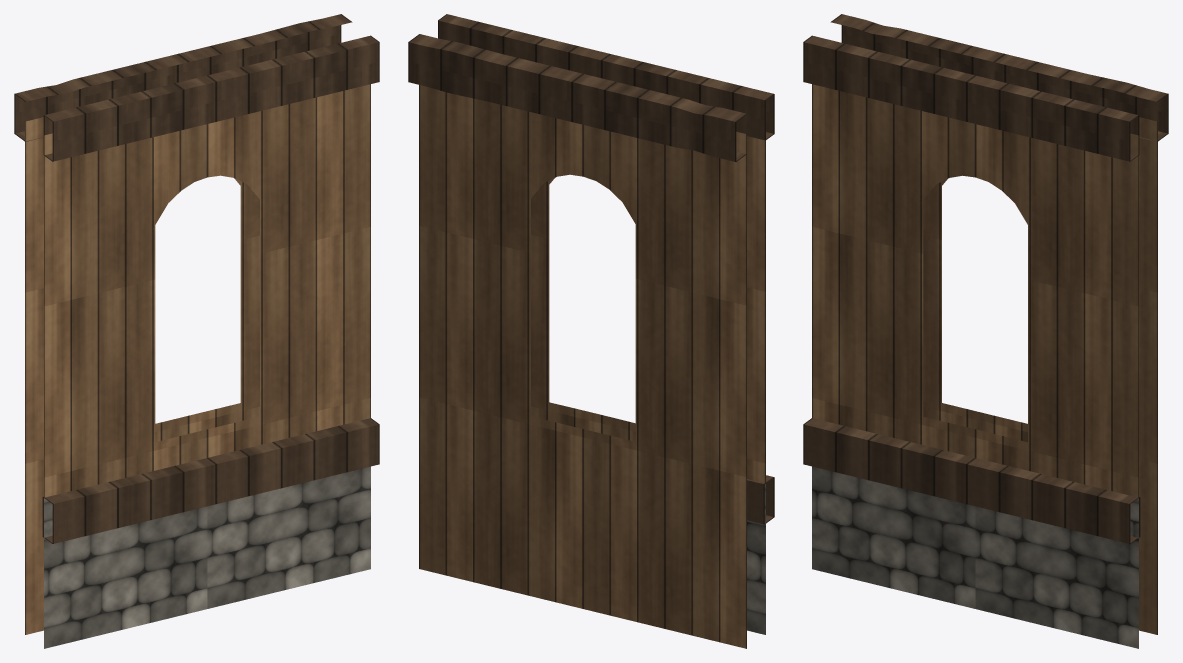
Rendered from Wall_Plank_Window_Thin_Round_LOD2.gltf.
3 views of the same model, side by side, from view 1: azimuth 30°, elevation 25°; view 2: azimuth 150°, elevation 25°; view 3: azimuth 330°, elevation 25° (orthographic).
Visible parts, largest first — view 1: Wall_Plank_Window_Thin_Round_LOD2; view 2: Wall_Plank_Window_Thin_Round_LOD2; view 3: Wall_Plank_Window_Thin_Round_LOD2.
Part boxes in pixels (<box>): Wall_Plank_Window_Thin_Round_LOD2: <box>14,14,379,648</box>; Wall_Plank_Window_Thin_Round_LOD2: <box>408,14,774,648</box>; Wall_Plank_Window_Thin_Round_LOD2: <box>803,14,1168,648</box>.
Size of the model in its own units: 2 by 3.12 by 0.406.
Materials: 3 (3 with a texture image).
